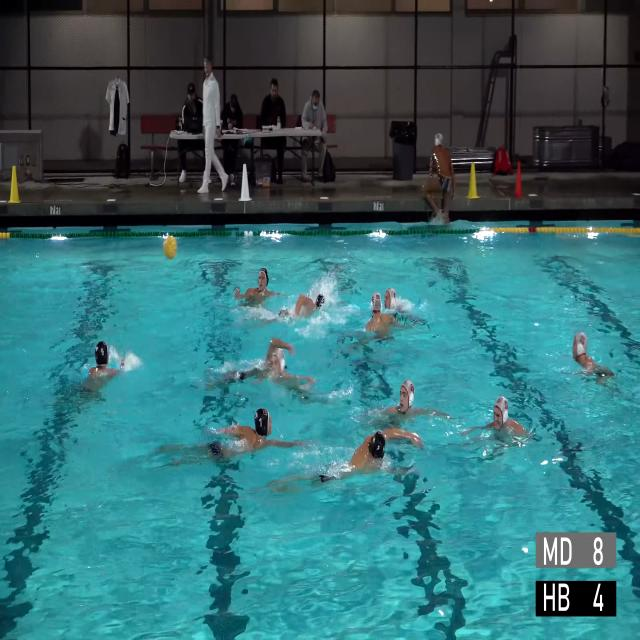ball: (163, 235, 177, 259)
